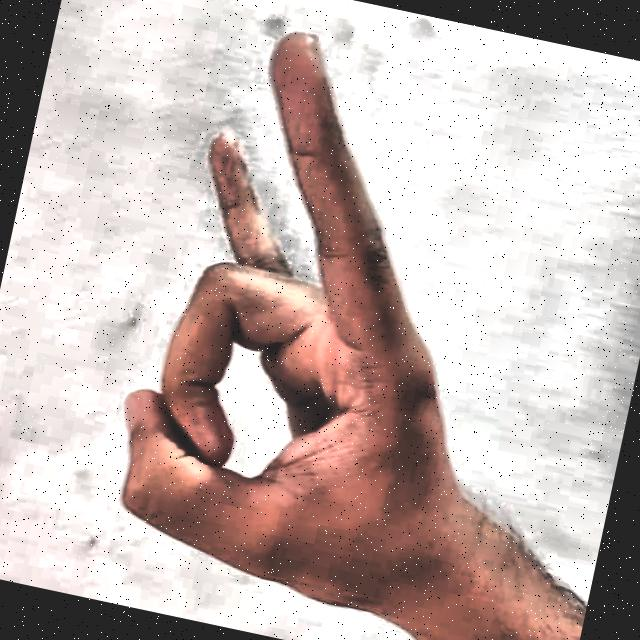Cha: (52, 0, 562, 640)
